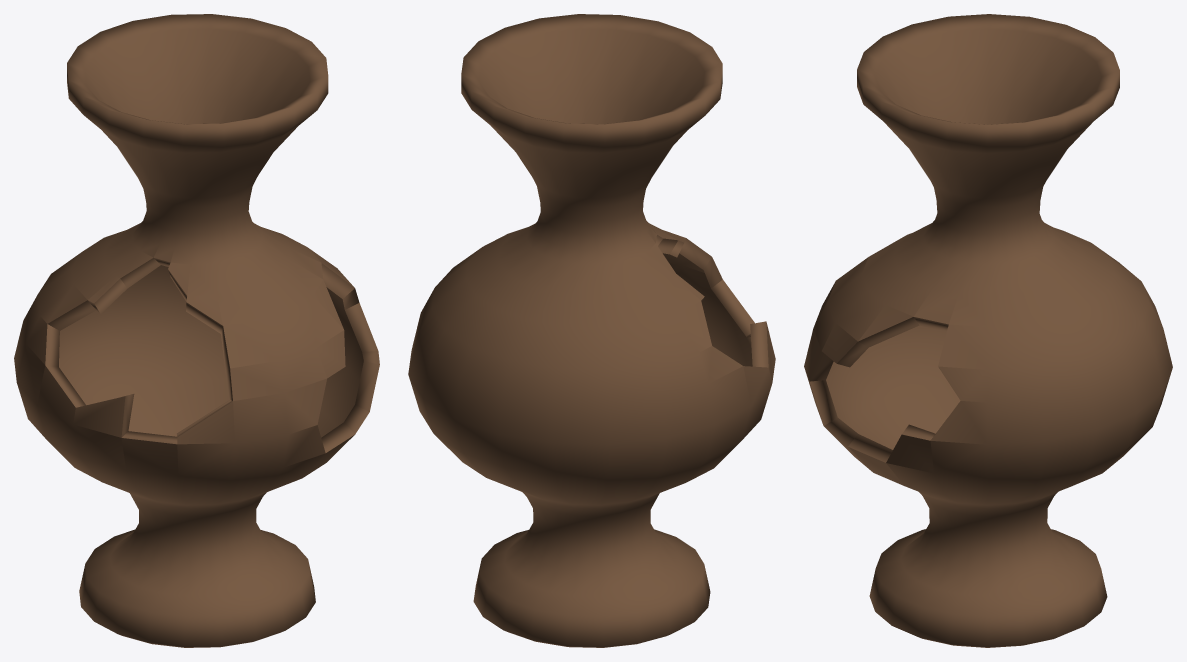
Rendered from Vase_3-3.fbx.
The picture shows the model from 3 angles, left to right: view 1: azimuth 30°, elevation 25°; view 2: azimuth 150°, elevation 25°; view 3: azimuth 270°, elevation 25°; orthographic projection.
Visible parts, largest first — view 1: Vase_3-3; view 2: Vase_3-3; view 3: Vase_3-3.
Boxes of the visible parts, x1=… form: Vase_3-3: x1=14, y1=14, x2=379, y2=647; Vase_3-3: x1=408, y1=14, x2=775, y2=647; Vase_3-3: x1=804, y1=14, x2=1172, y2=647.
Bounding box in the file's own units: 54.13 × 85.99 × 54.13.
1 material, 1 textured.
